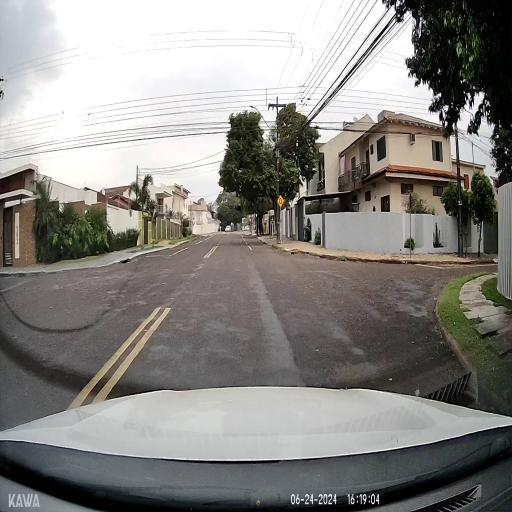A-12: (277, 196, 284, 208)
